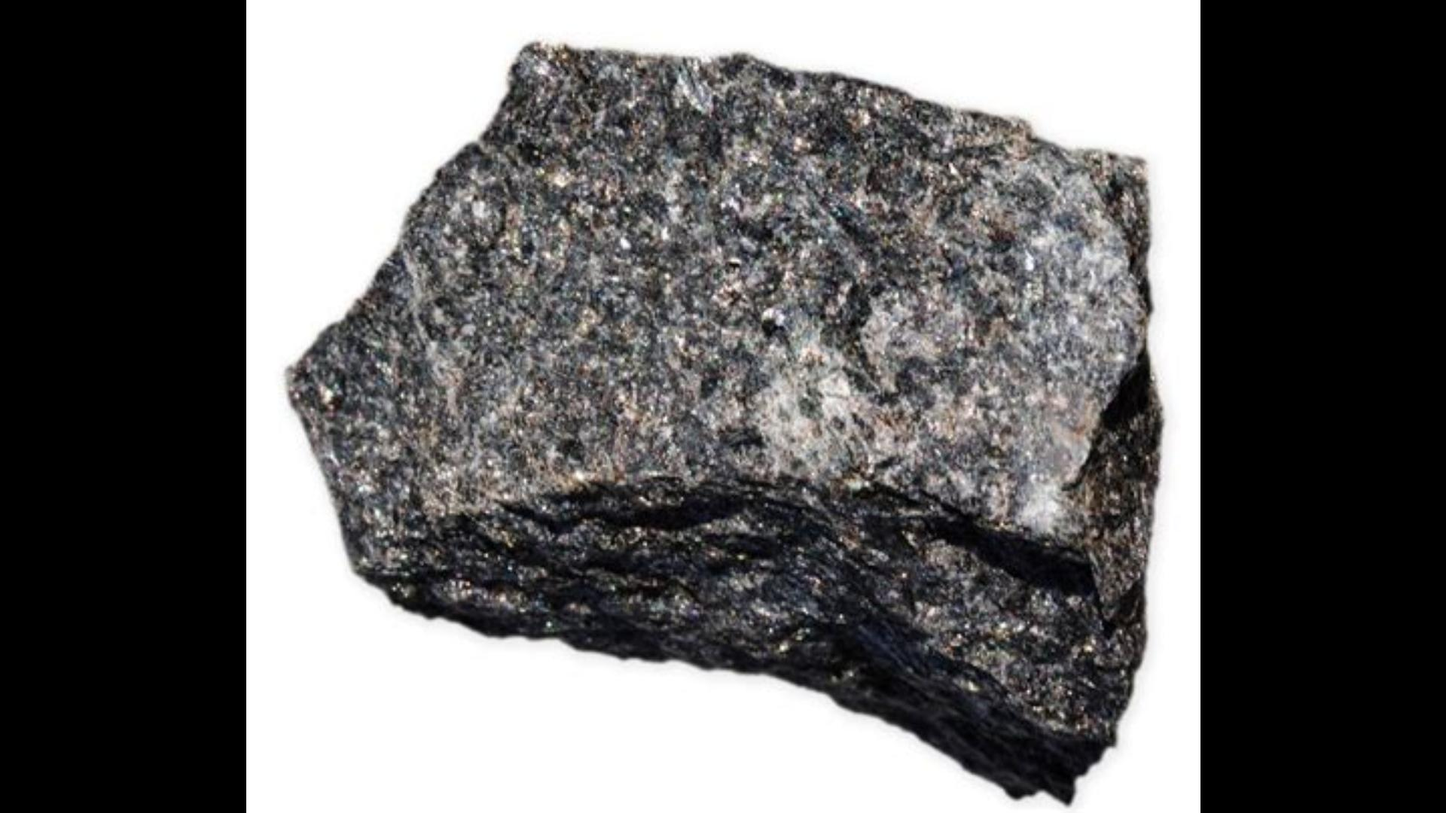rock: (290, 48, 1158, 795)
